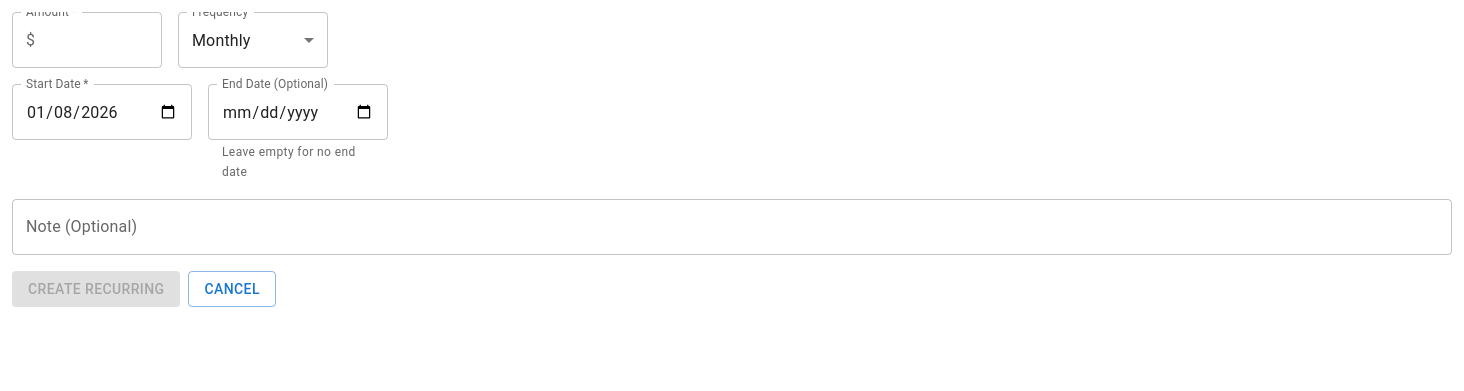
Test case: RecurringContributionForm › Submission error handling (line 59) › clears previous error when submitting again
This screenshot has width=1464, height=391.
Type "100" into the number field labelled "Amount *" at point(103, 40), box [43, 12, 162, 68]
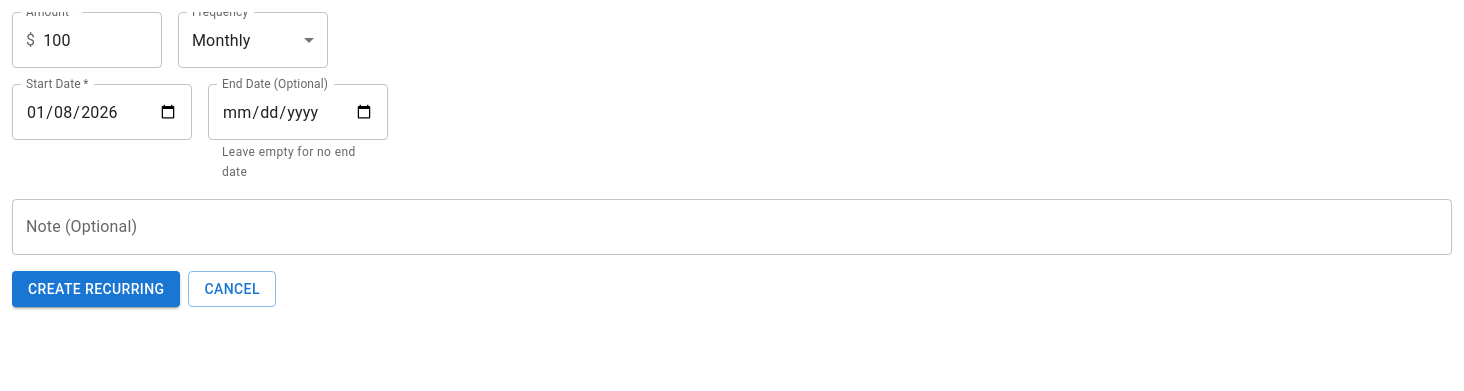
Note: First submission fails
Click the button "Create Recurring" at point(96, 289), box [12, 271, 180, 307]
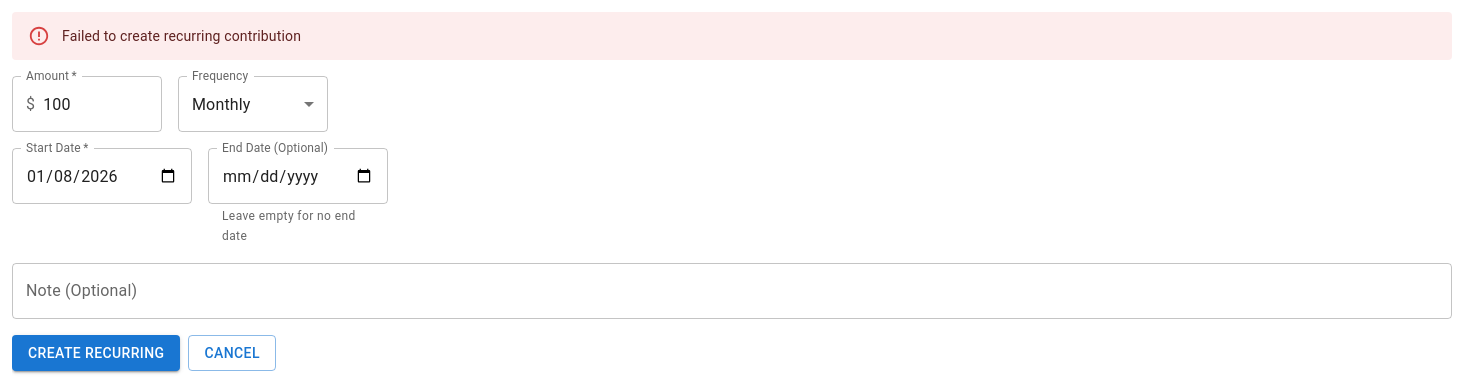
Now the text "Failed to create recurring contribution" is shown, box [62, 28, 301, 44]
Note: Second submission succeeds
Click the button "Create Recurring" at point(96, 353), box [12, 335, 180, 371]
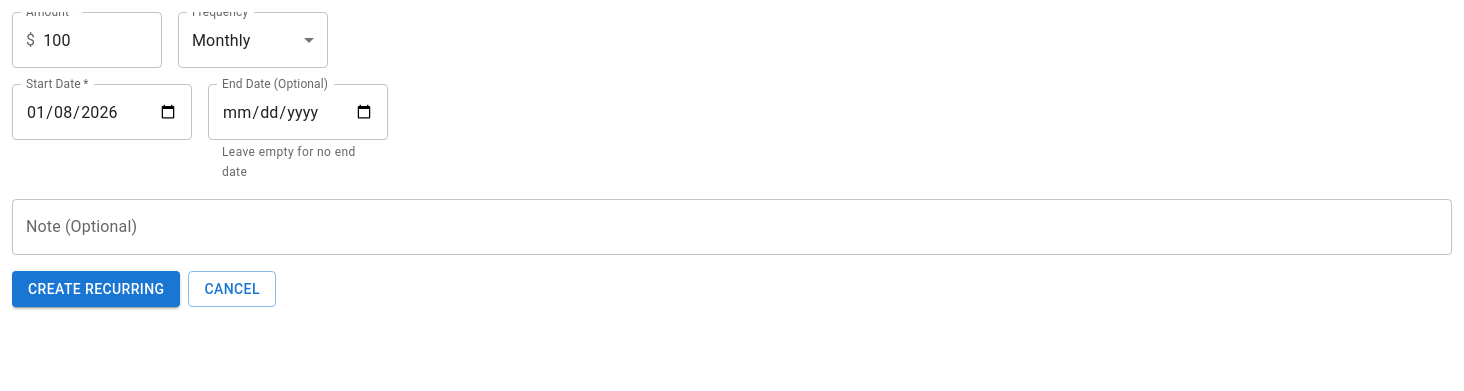
Now the text "Failed to create recurring contribution" is gone
